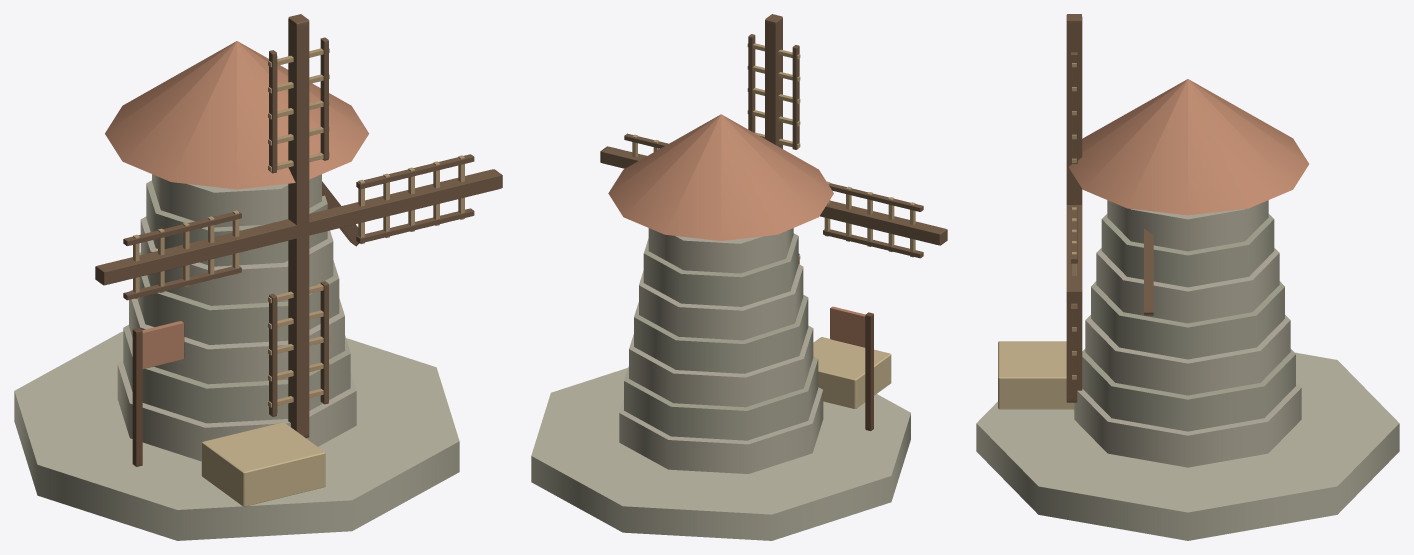
Rendered from oldmill-0.glb.
The picture shows the model from 3 angles, left to right: view 1: azimuth 30°, elevation 25°; view 2: azimuth 150°, elevation 25°; view 3: azimuth 270°, elevation 25°; orthographic projection. The views are drawn at different scales.
Visible parts, largest first — view 1: oldmill-0-0, landmark-fan, landmark-restored, landmark-ruin; view 2: oldmill-0-0, landmark-restored, landmark-fan, landmark-ruin; view 3: oldmill-0-0, landmark-restored, landmark-fan, landmark-ruin.
Part boxes in pixels (x1,y1,x2,y2): oldmill-0-0: [14, 174, 459, 540]; landmark-fan: [95, 14, 502, 438]; landmark-restored: [105, 41, 369, 466]; landmark-ruin: [201, 181, 359, 506]; oldmill-0-0: [531, 228, 910, 540]; landmark-restored: [608, 114, 873, 431]; landmark-fan: [600, 14, 947, 264]; landmark-ruin: [813, 337, 891, 408]; oldmill-0-0: [976, 200, 1399, 540]; landmark-restored: [1068, 79, 1308, 215]; landmark-fan: [1066, 14, 1082, 402]; landmark-ruin: [998, 228, 1153, 409].
Bounding box in the file's own units: 2.16 × 2.45 × 2.16.
